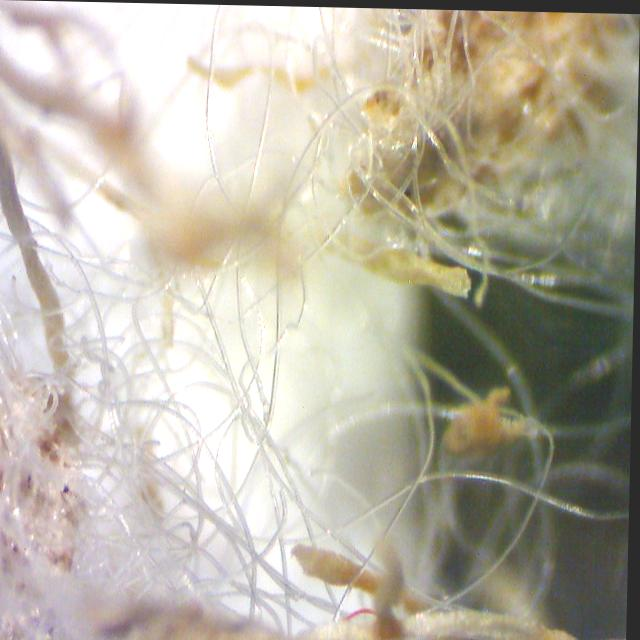microplastic: (0, 268, 294, 640), (307, 5, 485, 253), (300, 467, 631, 544)
